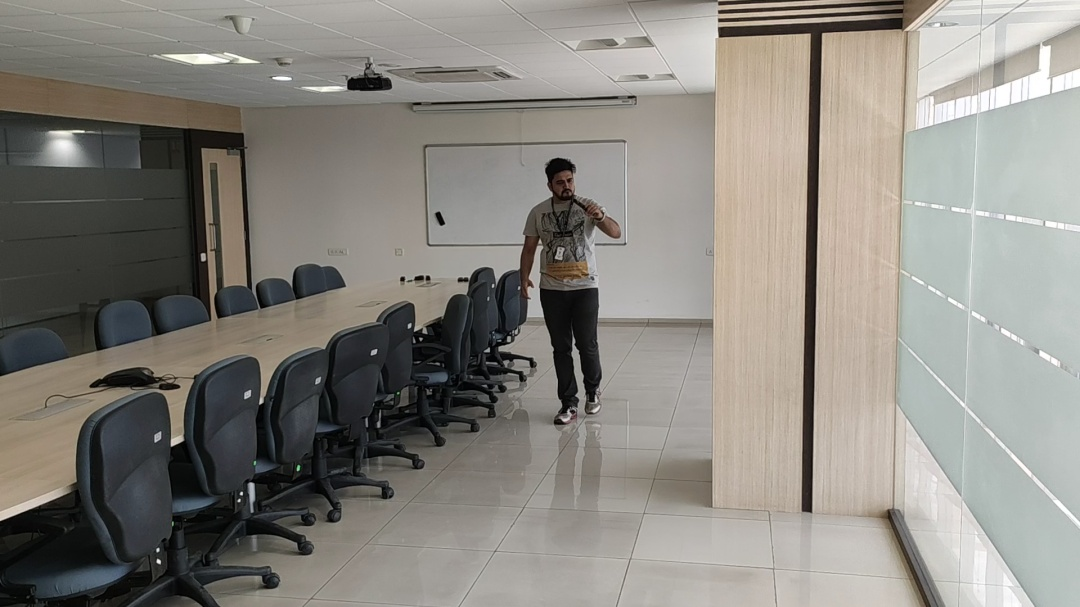gun: (571, 199, 584, 208)
